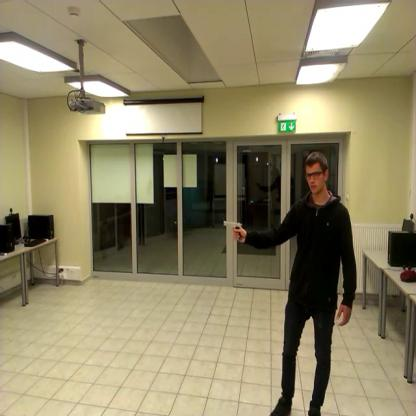Pistol: (223, 216, 245, 246)
